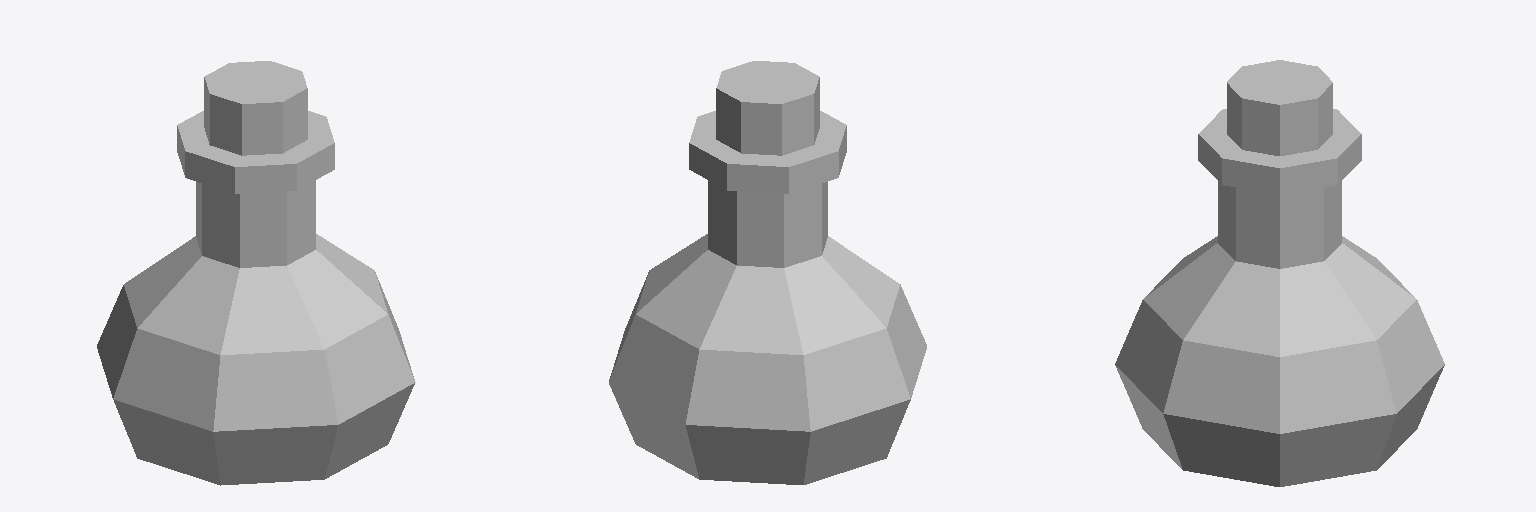
The model's file is misc022.obj.
3 renders of one model, left to right at view 1: azimuth 30°, elevation 25°; view 2: azimuth 150°, elevation 25°; view 3: azimuth 270°, elevation 25°, orthographic.
Visible parts, largest first — view 1: misc022; view 2: misc022; view 3: misc022.
Boxes of the visible parts, x1,y1,x2,y2 form: misc022: [97, 61, 415, 485]; misc022: [609, 61, 926, 484]; misc022: [1115, 60, 1444, 486].
Size of the model in its own units: 0.0047 by 0.0055 by 0.0047.